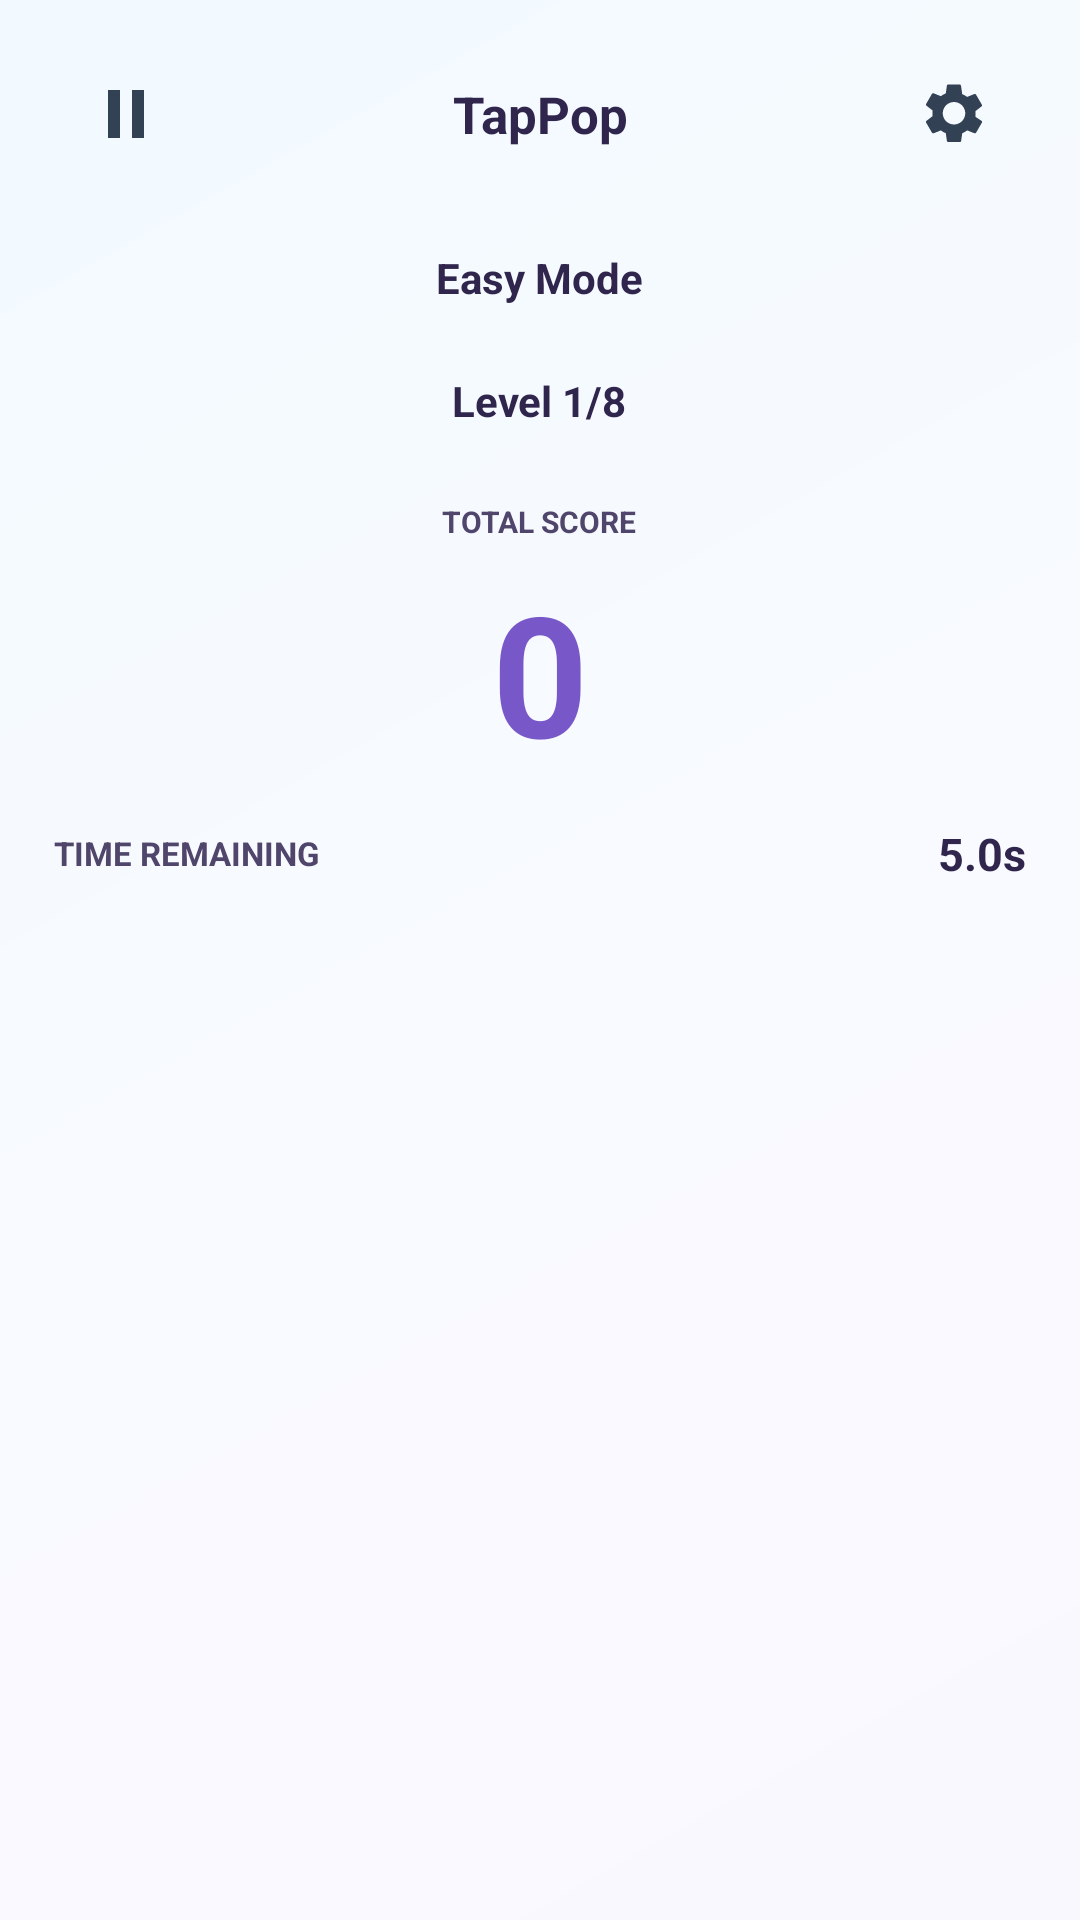

Icon bounding boxes for this 1080*1920 phone screenshot, format (x1, y1, x2, y2):
Game settings: (926, 84, 982, 142)
Pause game: (108, 90, 144, 138)
